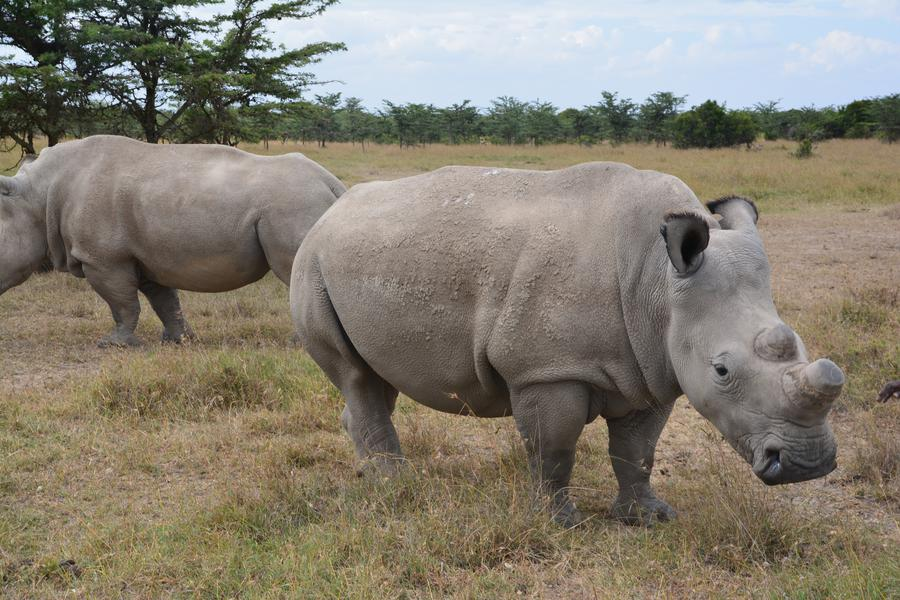rhino: (306, 169, 848, 508), (13, 138, 362, 303)
